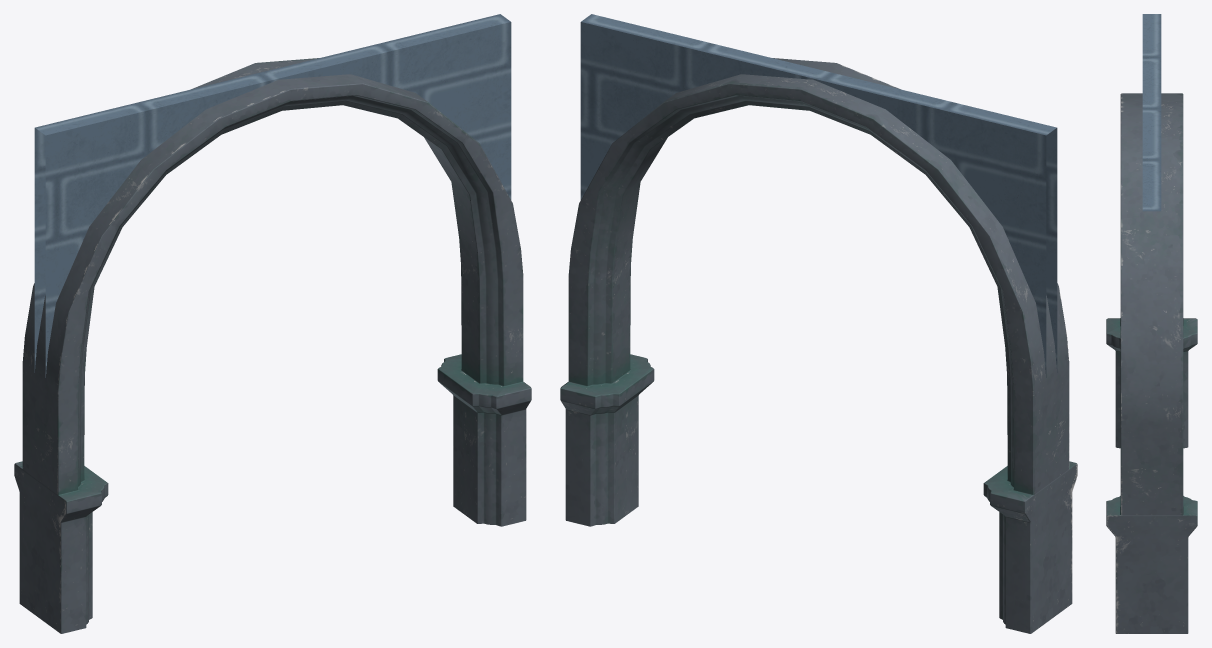
Rendered from Wall_Arch.fbx.
3 views of the same model, side by side, from view 1: azimuth 30°, elevation 25°; view 2: azimuth 150°, elevation 25°; view 3: azimuth 270°, elevation 25° (orthographic). The views are drawn at different scales.
Parts seen in each view (by area): view 1: Wall_Arch; view 2: Wall_Arch; view 3: Wall_Arch.
Part boxes in pixels (x1,y1,x2,y2): Wall_Arch: (14,14,531,633); Wall_Arch: (560,14,1077,633); Wall_Arch: (1106,14,1197,633).
Bounding box in the file's own units: 500 × 500 × 97.9.
Materials: 2 (2 with a texture image).
